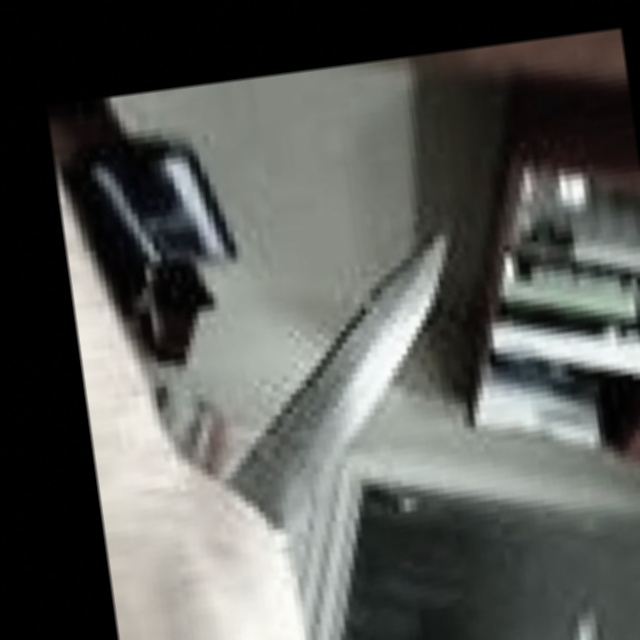Sharp-Object: (197, 239, 479, 536)
